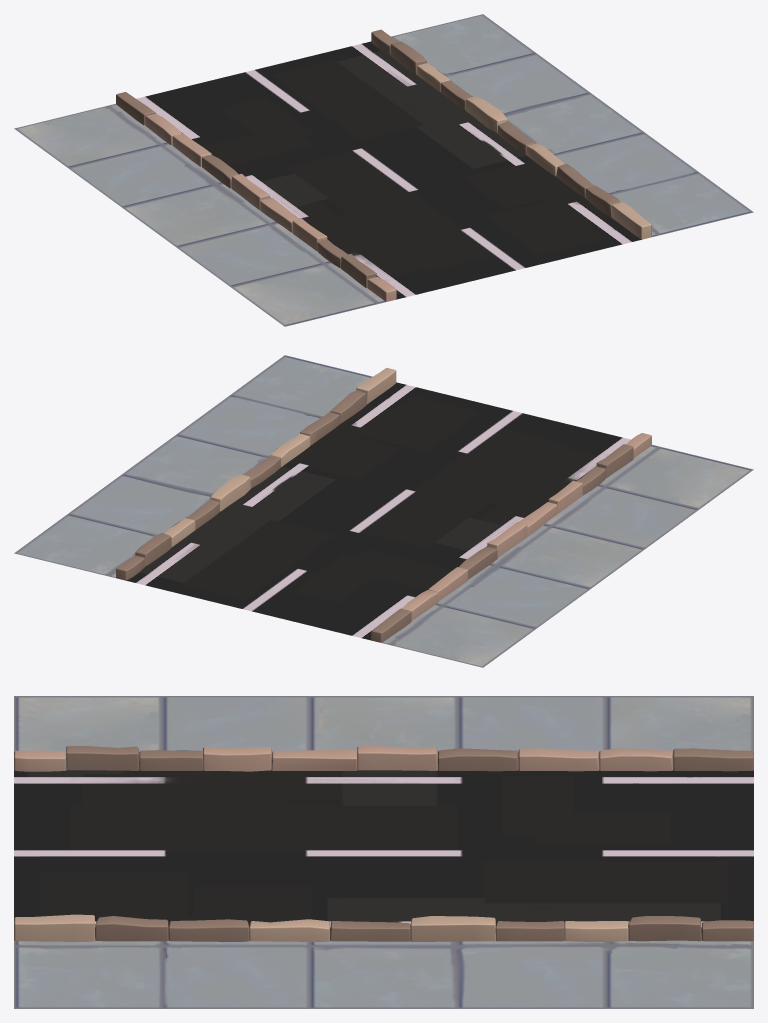
The model's file is CityRoad_straightNarrow.fbx.
The picture shows the model from 3 angles, top to bottom: view 1: azimuth 30°, elevation 25°; view 2: azimuth 150°, elevation 25°; view 3: azimuth 270°, elevation 25°; orthographic projection. The views are drawn at different scales.
Visible parts, largest first — view 1: CityRoad_straightNarrow_mesh; view 2: CityRoad_straightNarrow_mesh; view 3: CityRoad_straightNarrow_mesh.
Boxes of the visible parts, bbox=[...] form: CityRoad_straightNarrow_mesh: bbox=[14, 14, 753, 326]; CityRoad_straightNarrow_mesh: bbox=[14, 355, 753, 667]; CityRoad_straightNarrow_mesh: bbox=[14, 696, 753, 1008].
Bounding box in the file's own units: 1000 × 28.55 × 1000.
